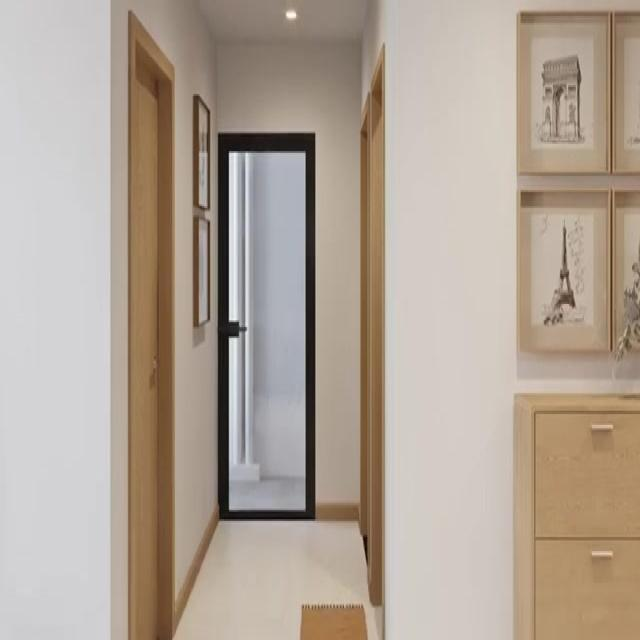door: (217, 130, 315, 520), (127, 11, 172, 640)
obstacle: (512, 391, 639, 638)
